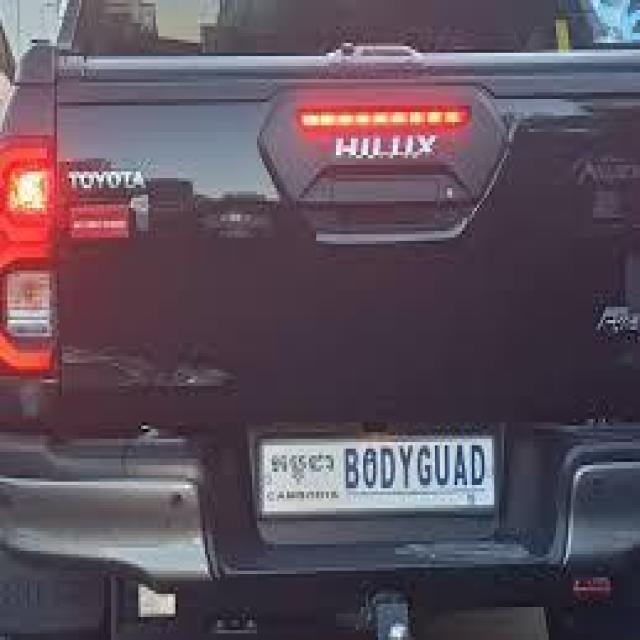Cambodia: (270, 449, 338, 484)
